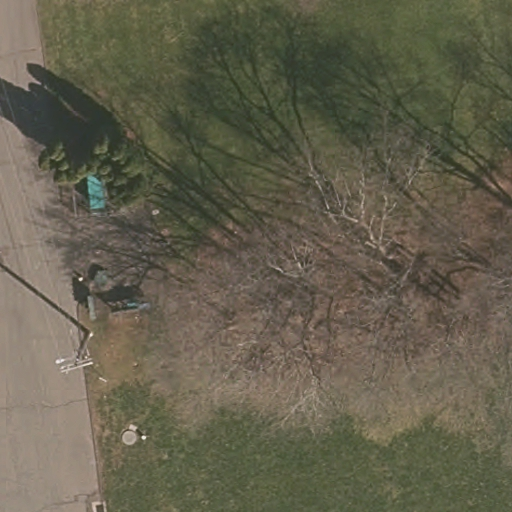DT: (54, 330, 93, 375)
